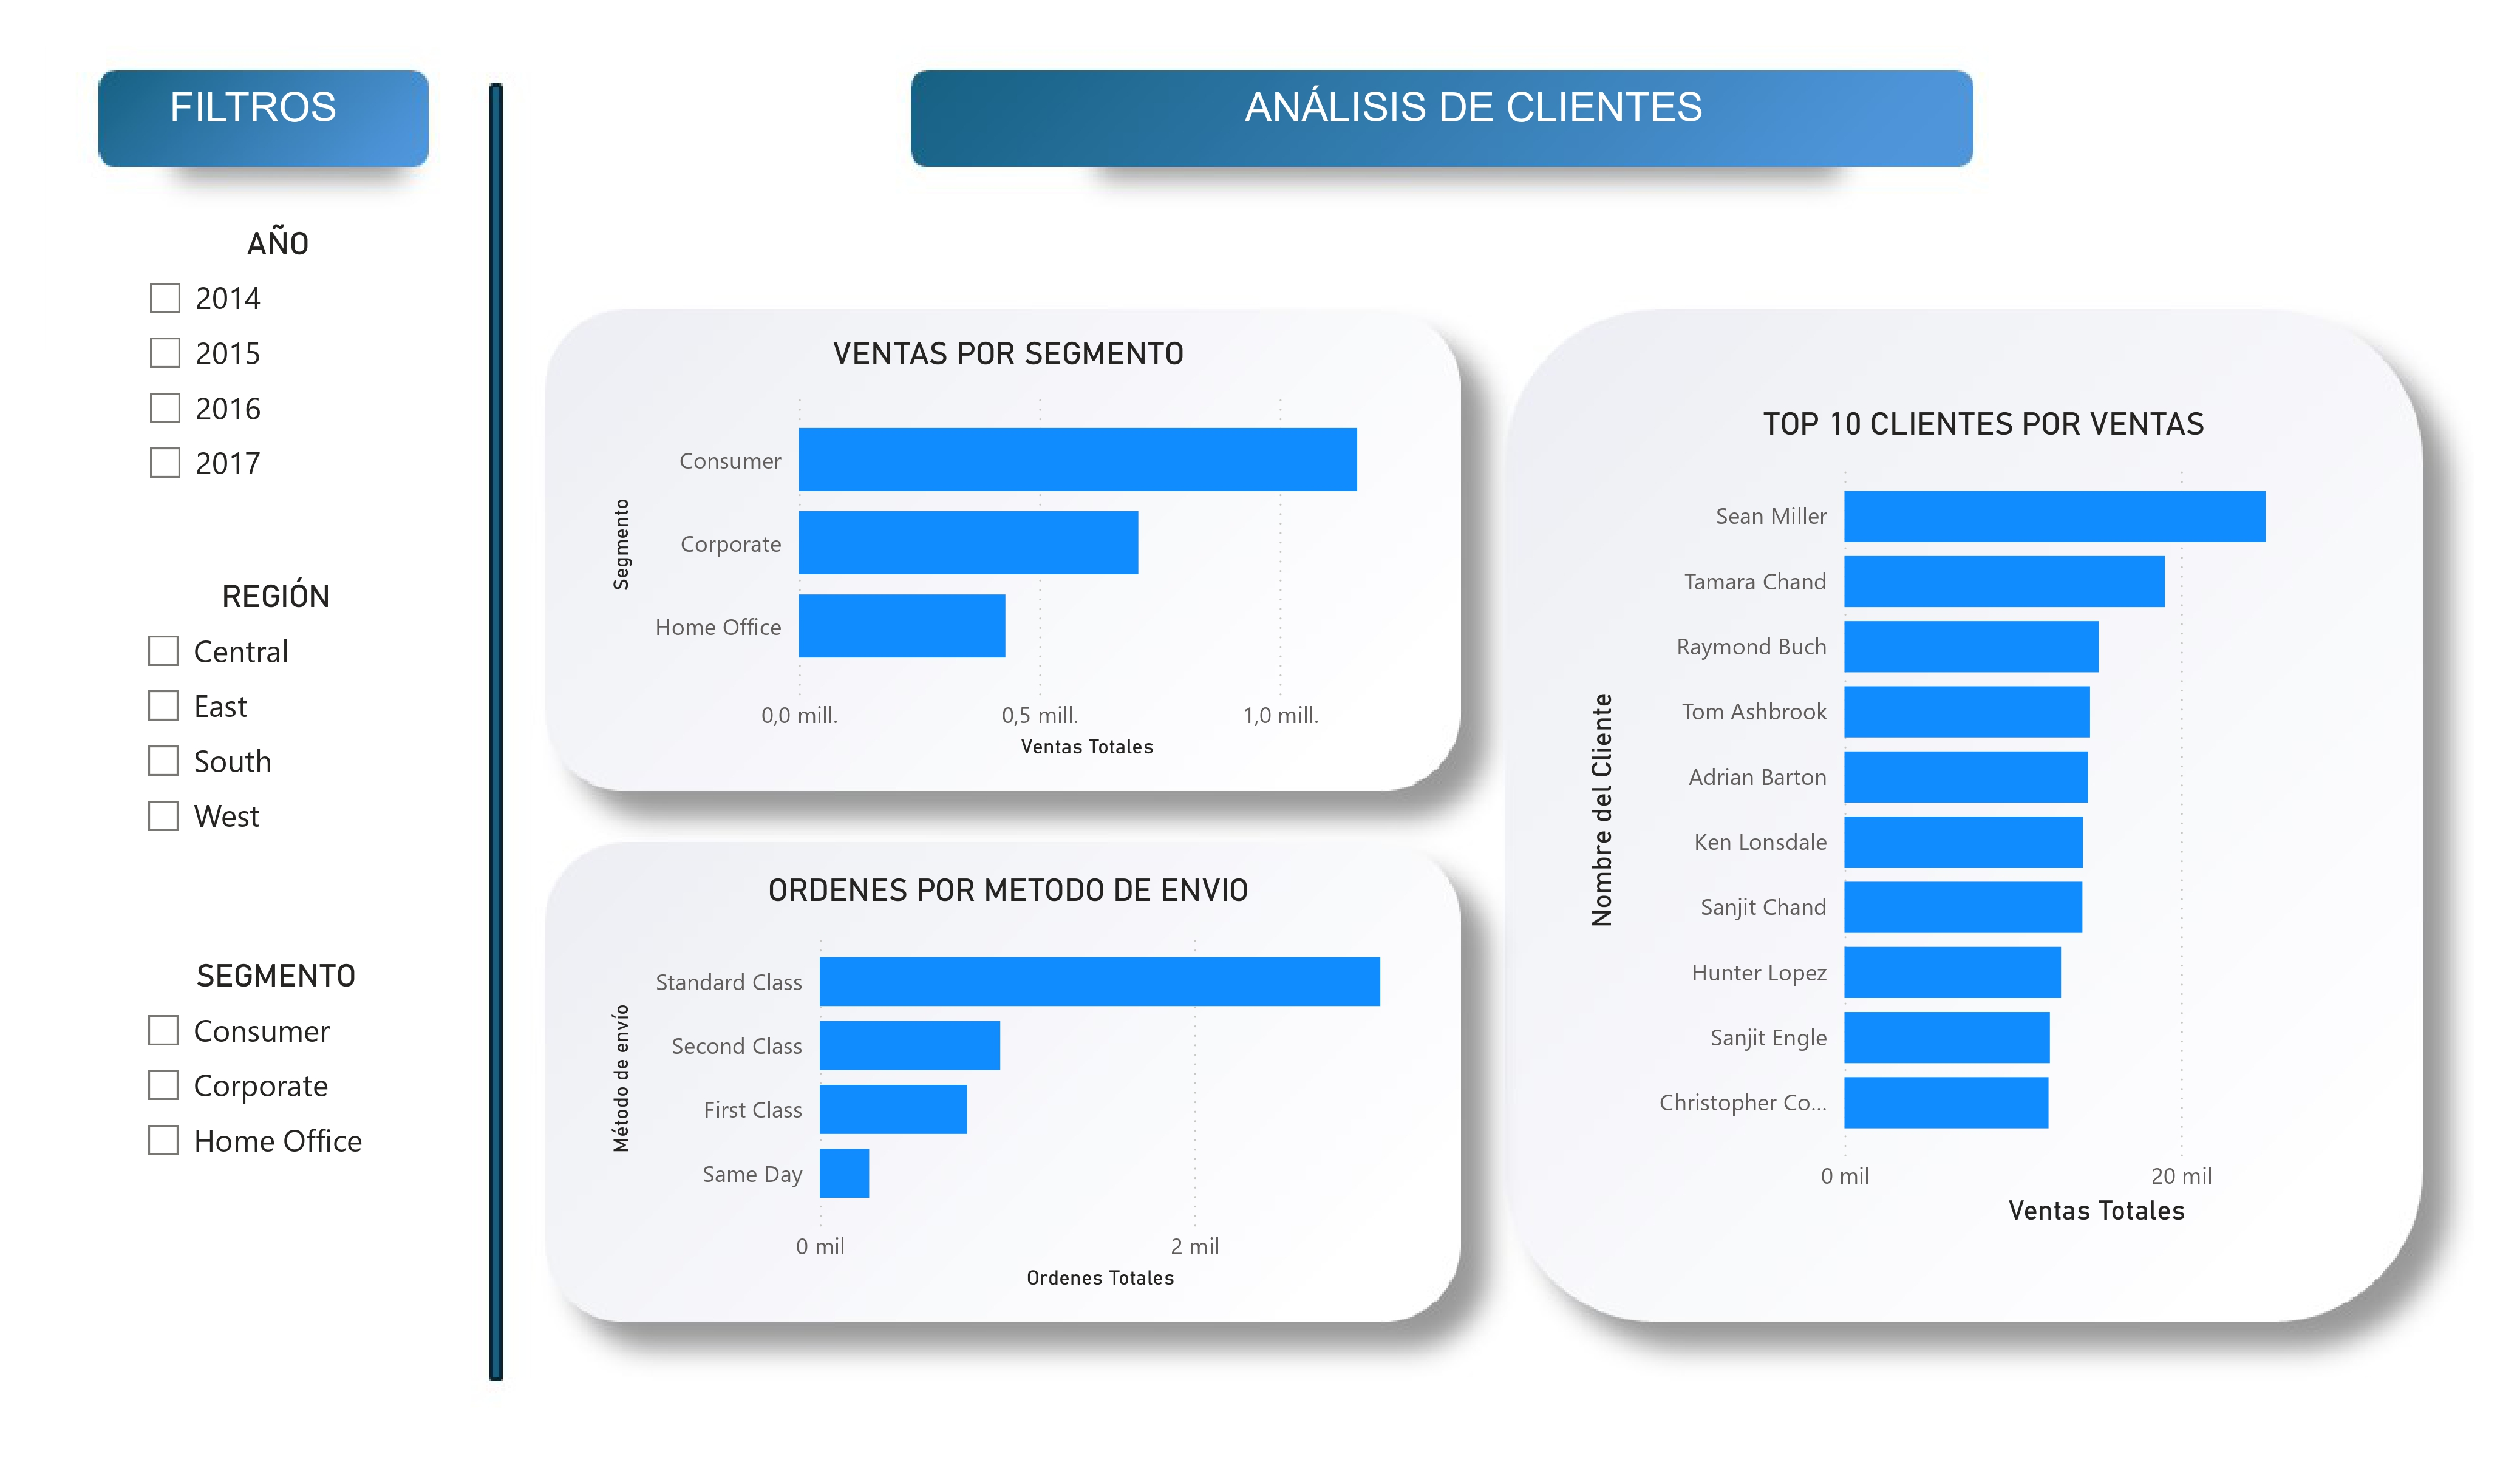

The dashboard page shown, as its layout file describes it:
{"tool":"powerbi","page":{"name":"CLIENTES","canvas":[1280,720],"ordinal":2},"visuals":[{"type":"clusteredBarChart","title":"TOP 10 CLIENTES POR VENTAS","fields":{"Category":["superstore.Customer Name"],"Y":["Medidas.Total Sales"]},"box":[807.3,188.7,428.9,438.7],"z":0},{"type":"clusteredBarChart","title":"VENTAS POR SEGMENTO","fields":{"Category":["superstore.Segment"],"Y":["Medidas.Total Sales"]},"box":[292.8,151.7,428.9,228.6],"z":1000},{"type":"clusteredBarChart","title":"ORDENES POR METODO DE ENVIO","fields":{"Category":["superstore.Ship Mode"],"Y":["Medidas.Total Orders"]},"box":[292.8,434.8,428.9,225.7],"z":2000},{"type":"slicer","title":"REGIÓN","fields":{"Values":["superstore.Region"]},"box":[41.4,280.3,160.8,184],"z":3000},{"type":"slicer","title":"AÑO","fields":{"Values":["superstore.Order Date.Variación.Date Hierarchy.Year"]},"box":[41.8,93.8,160.8,184],"z":4000},{"type":"slicer","title":"SEGMENTO","fields":{"Values":["superstore.Segment"]},"box":[41.4,479.6,160.8,184],"z":5000},{"type":"textbox","box":[516.2,16.4,473.9,43.3],"z":6000},{"type":"textbox","box":[41.4,16.4,136.8,50.1],"z":7000}]}

Visuals, with their boxes on the page's 1280x720 design canvas (x1, y1, x2, y2). These are canvas units, not pixel positions in the 2520x1457 screenshot, which may show the page scaled, cropped or inside an application window:
"TOP 10 CLIENTES POR VENTAS" clusteredBarChart: detection(807, 189, 1236, 627)
"VENTAS POR SEGMENTO" clusteredBarChart: detection(293, 152, 722, 380)
"ORDENES POR METODO DE ENVIO" clusteredBarChart: detection(293, 435, 722, 660)
"REGIÓN" slicer: detection(41, 280, 202, 464)
"AÑO" slicer: detection(42, 94, 203, 278)
"SEGMENTO" slicer: detection(41, 480, 202, 664)
textbox: detection(516, 16, 990, 60)
textbox: detection(41, 16, 178, 66)
